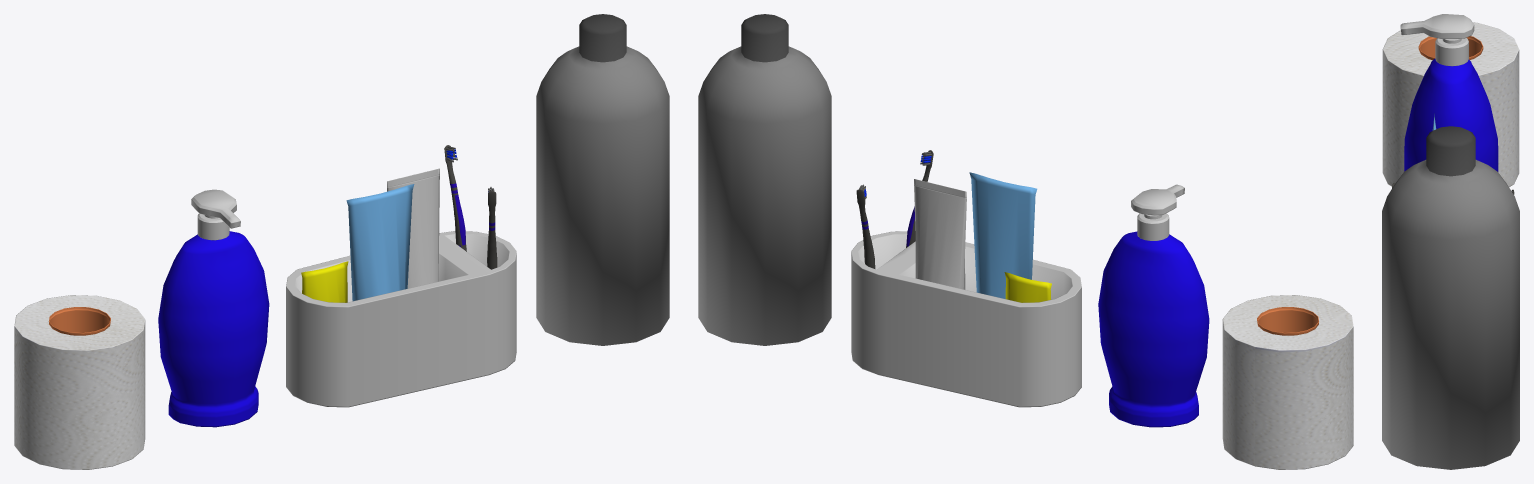
File: batheroom stuff.fbx
3 views of the same model, side by side, from view 1: azimuth 30°, elevation 25°; view 2: azimuth 150°, elevation 25°; view 3: azimuth 270°, elevation 25° (orthographic). The views are drawn at different scales.
Parts seen in each view (by area): view 1: ToothbrushHolder, shampoo, ToiletPaper, Soap; view 2: ToothbrushHolder, shampoo, ToiletPaper, Soap; view 3: shampoo, ToiletPaper, Soap.
Part boxes in pixels (bbox=[...]): ToothbrushHolder: bbox=[286, 145, 516, 407]; shampoo: bbox=[536, 14, 669, 345]; ToiletPaper: bbox=[14, 295, 145, 469]; Soap: bbox=[158, 189, 269, 427]; ToothbrushHolder: bbox=[851, 150, 1081, 407]; shampoo: bbox=[698, 14, 831, 345]; ToiletPaper: bbox=[1222, 295, 1353, 469]; Soap: bbox=[1098, 184, 1209, 427]; shampoo: bbox=[1382, 126, 1519, 469]; ToiletPaper: bbox=[1382, 22, 1519, 187]; Soap: bbox=[1400, 14, 1498, 171].
Bounding box in the file's own units: 1.01 × 0.4527 × 0.1831.
